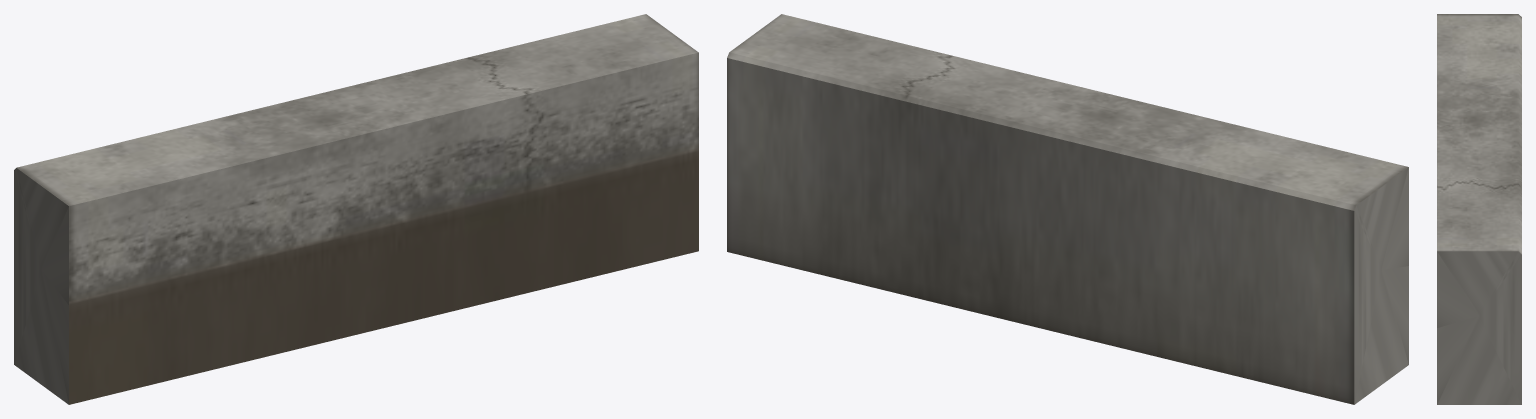
Rendered from curb_low_lod2_web.glb.
The picture shows the model from 3 angles, left to right: view 1: azimuth 30°, elevation 25°; view 2: azimuth 150°, elevation 25°; view 3: azimuth 270°, elevation 25°; orthographic projection. The views are drawn at different scales.
Visible parts, largest first — view 1: curb_low_Mesh; view 2: curb_low_Mesh; view 3: curb_low_Mesh.
Part boxes in pixels (x1=…): curb_low_Mesh: x1=14, y1=14, x2=698, y2=404; curb_low_Mesh: x1=727, y1=14, x2=1408, y2=404; curb_low_Mesh: x1=1437, y1=14, x2=1521, y2=404.
Bounding box in the file's own units: 0.995 × 0.3 × 0.15.
Materials: 1 (1 with a texture image).
